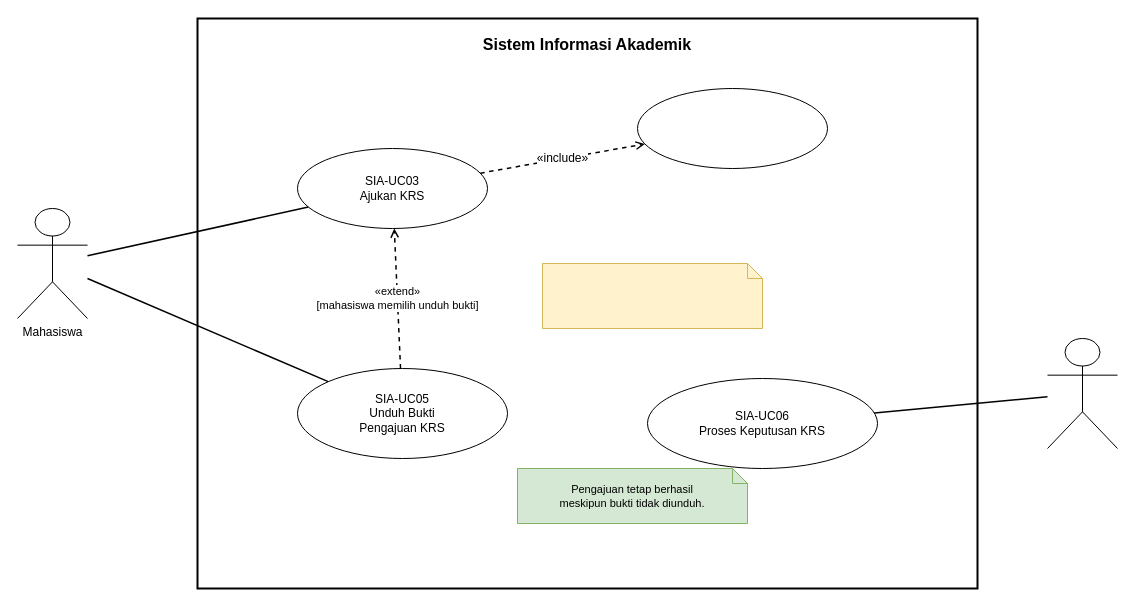
Image size: 1135x606. Some labels were removed from this diagram. The shapes that lost their labels are listed below. From the top down, each one's centre as x and y in pixels, then its label:
point (732, 128): SIA-UC04 Validasi KRS
point (652, 295): Extension point: Konfirmasi pengajuan tersimpan
point (1082, 393): Dosen Wali
